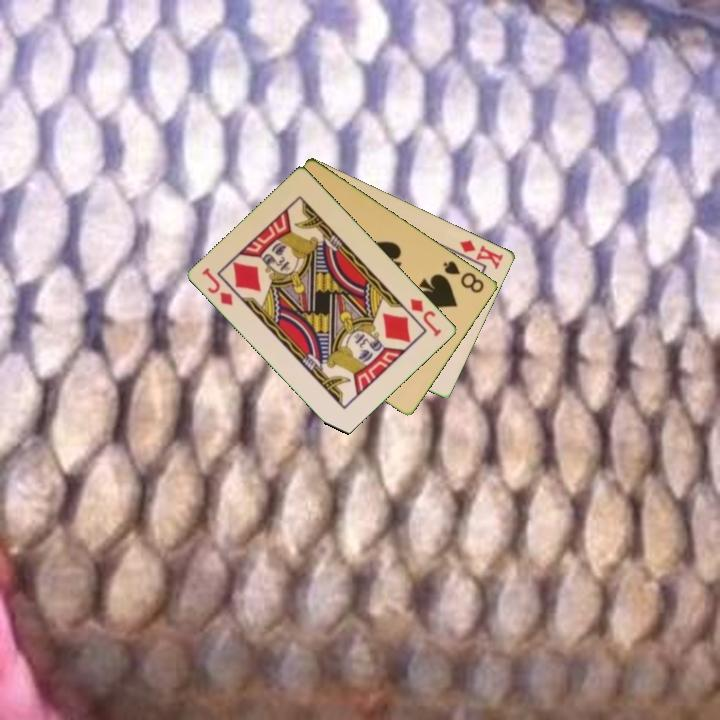8s: (440, 257, 488, 296)
Jd: (407, 295, 445, 340), (199, 264, 237, 309)
Kd: (456, 236, 507, 272)
